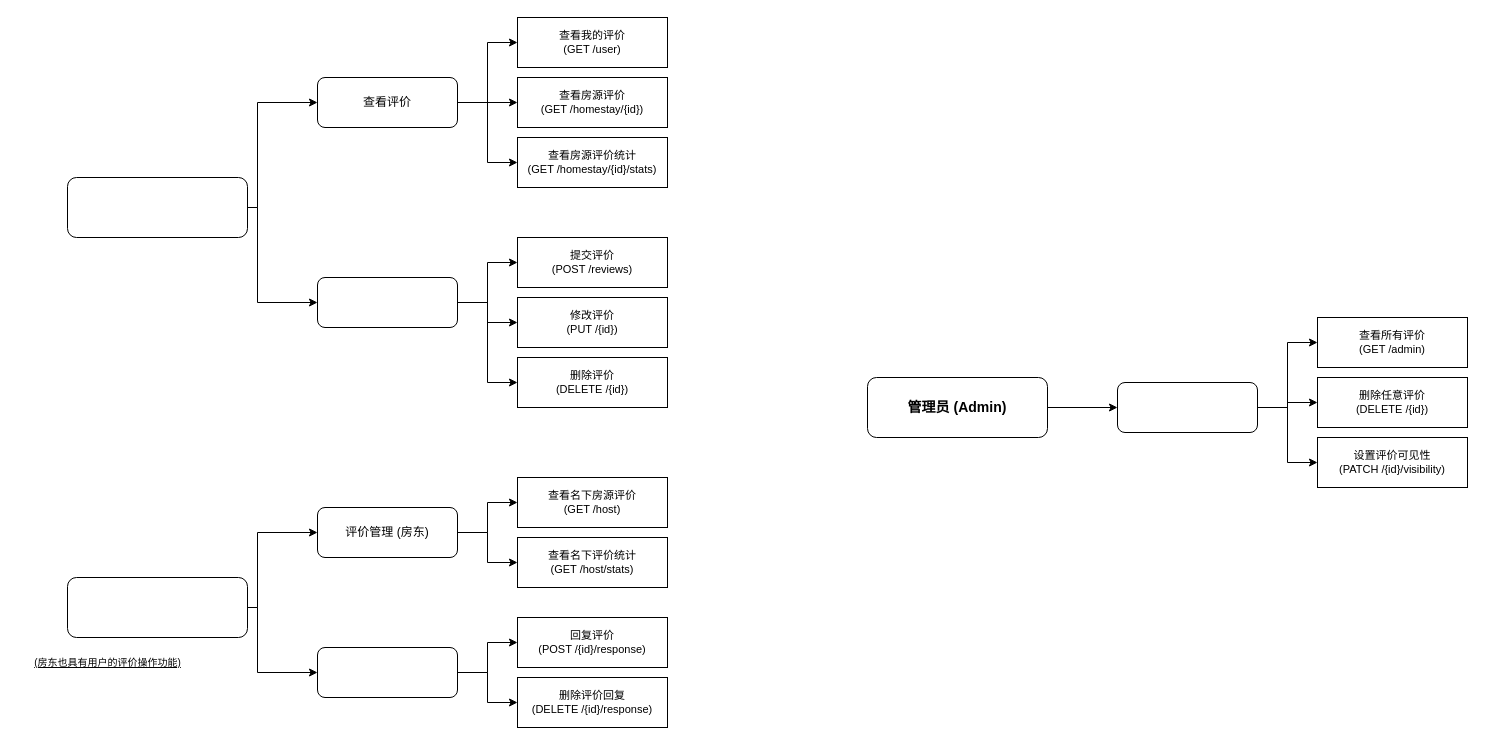
The diagram is 1485 pixels wide and 745 high, and some of its shapes have lost their labels. Each missing label, with the box of its shape:
回复管理: (316, 646, 458, 698)
房东 (Host): (66, 576, 248, 638)
用户 (User): (66, 176, 248, 238)
评价操作: (316, 276, 458, 328)
评价管理 (管理员): (1116, 382, 1258, 432)
